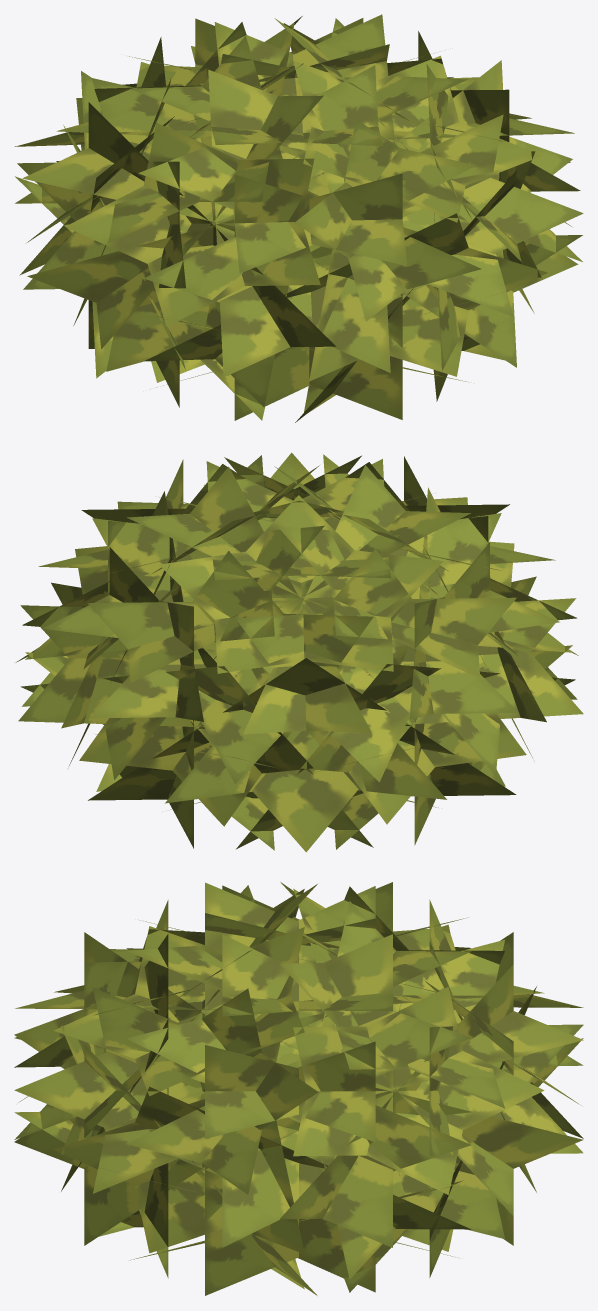
The model's file is Moss_Fern_Blob_2.fbx.
The picture shows the model from 3 angles, top to bottom: view 1: azimuth 30°, elevation 25°; view 2: azimuth 150°, elevation 25°; view 3: azimuth 270°, elevation 25°; orthographic projection. The views are drawn at different scales.
Parts seen in each view (by area): view 1: Moss_Fern_Blob_2; view 2: Moss_Fern_Blob_2; view 3: Moss_Fern_Blob_2.
Boxes of the visible parts, left/top/right/bottom form: Moss_Fern_Blob_2: left=14, top=14, right=583, bottom=422; Moss_Fern_Blob_2: left=15, top=452, right=583, bottom=852; Moss_Fern_Blob_2: left=14, top=882, right=583, bottom=1295.
Size of the model in its own units: 70.26 by 36.94 by 64.87.
1 material, 1 textured.
